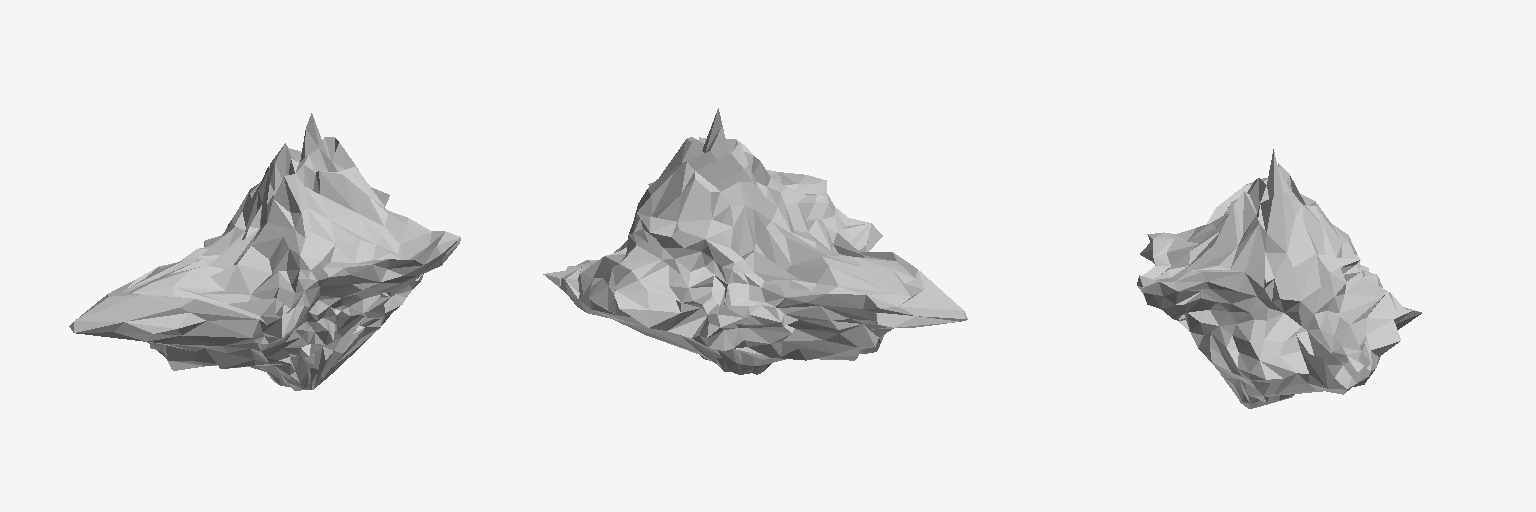
Rendered from Sharp_IB_01.obj.
The picture shows the model from 3 angles: view 1: azimuth 30°, elevation 25°; view 2: azimuth 150°, elevation 25°; view 3: azimuth 270°, elevation 25°; orthographic projection.
Visible parts, largest first — view 1: SharpIceBerg_Cube.002; view 2: SharpIceBerg_Cube.002; view 3: SharpIceBerg_Cube.002.
Part boxes in pixels (left/top/right/bottom): SharpIceBerg_Cube.002: left=69, top=113, right=460, bottom=390; SharpIceBerg_Cube.002: left=543, top=108, right=967, bottom=374; SharpIceBerg_Cube.002: left=1137, top=149, right=1421, bottom=408.
Size of the model in its own units: 22.77 by 15.14 by 14.74.